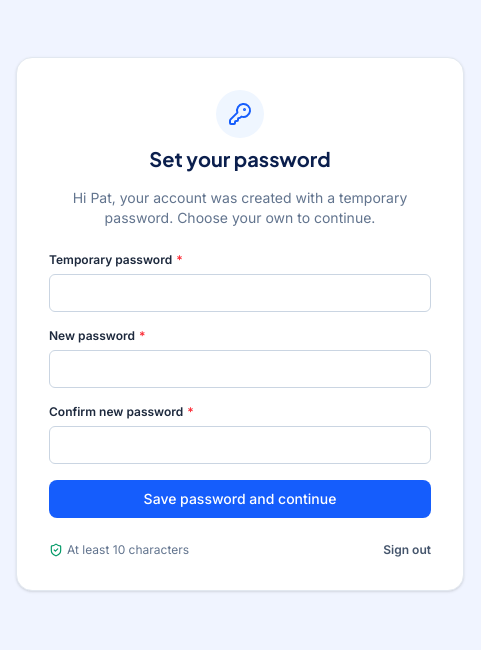
Scenario: ChangePassword page › asks platform administrators for 10 characters
Type "Temp-Pass-1" into the 1st password field at [240, 293], box [49, 274, 431, 312]
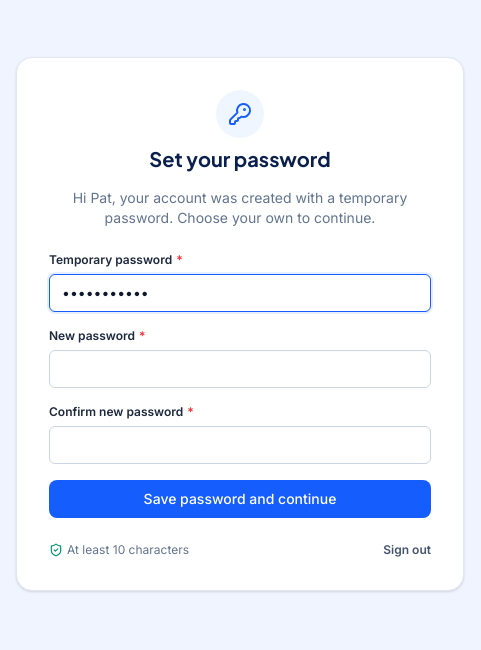
Type "Short-9ch" into the 2nd password field at [240, 369], box [49, 350, 431, 388]
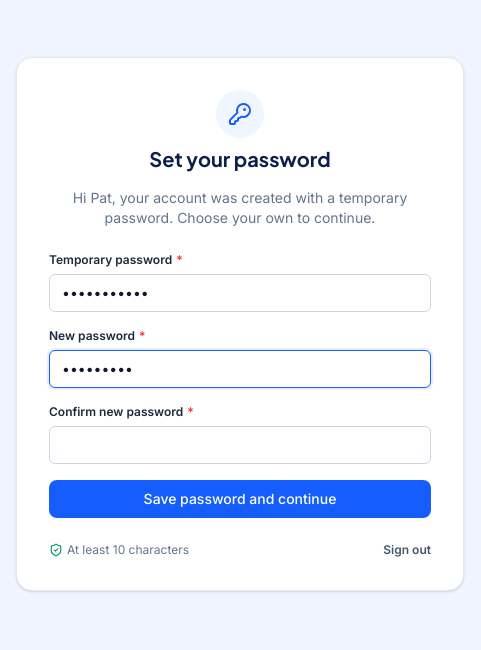
Type "Short-9ch" into the password field below "Confirm new password" at [240, 445], box [49, 426, 431, 464]
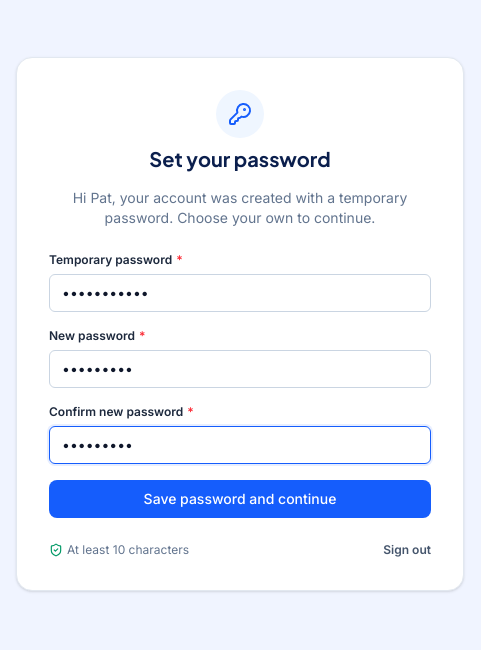
Click the button "Save password and continue" at [240, 499], box [49, 480, 431, 518]
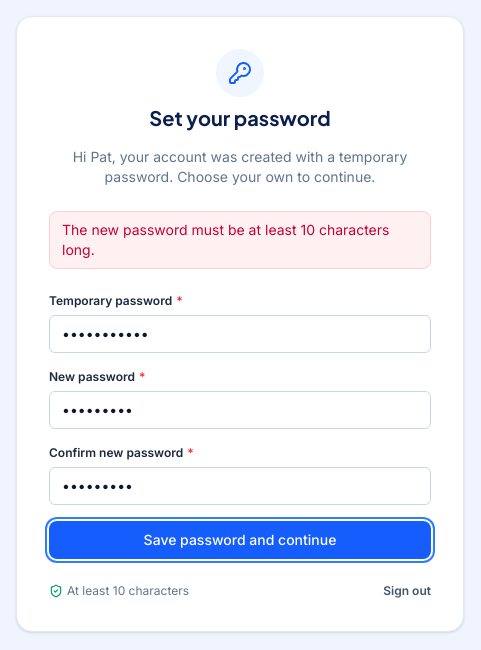
Check: the message shows "at least 10", box [62, 221, 390, 258]
